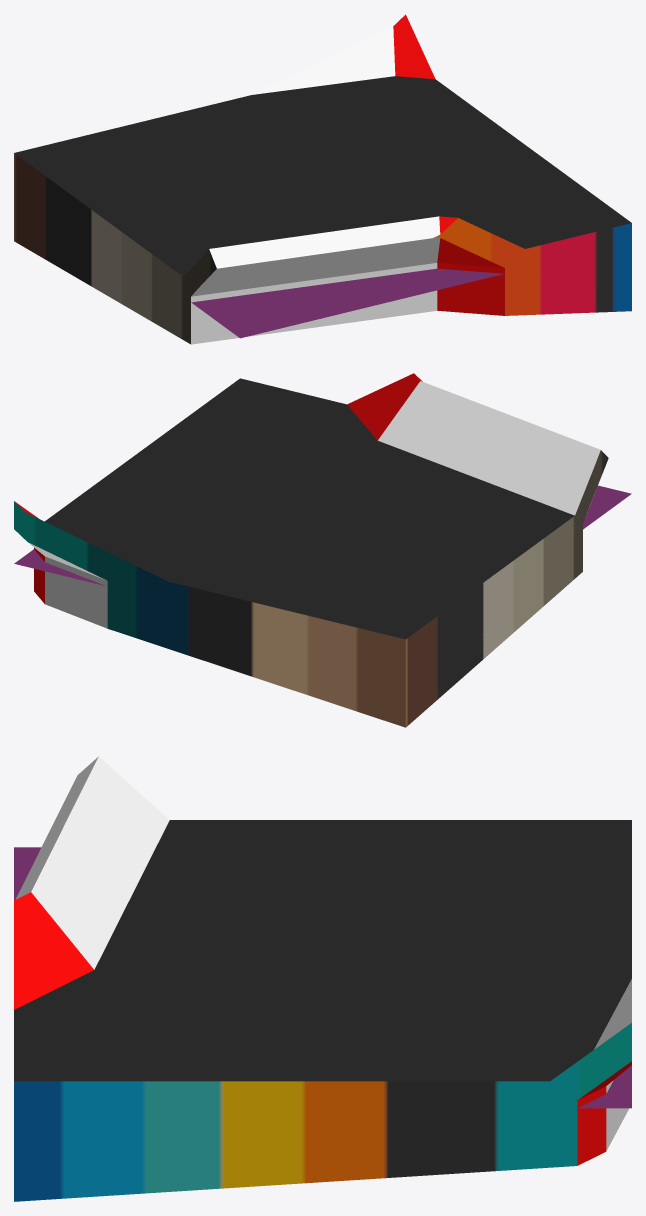
Rendered from tile_20_0_10.gltf.
3 views of the same model, one above another, from view 1: azimuth 30°, elevation 25°; view 2: azimuth 150°, elevation 25°; view 3: azimuth 270°, elevation 25° (orthographic). The views are drawn at different scales.
Parts seen in each view (by area): view 1: track.251, Plane; view 2: track.251, Plane; view 3: track.251, Plane.
Part boxes in pixels (<box>): track.251: <box>14,14,631,344</box>; Plane: <box>191,268,504,338</box>; track.251: <box>14,373,608,727</box>; Plane: <box>14,485,631,585</box>; track.251: <box>14,756,631,1201</box>; Plane: <box>14,847,631,1108</box>.
Bounding box in the file's own units: 8 × 2.65 × 8.
1 material, 1 textured.
